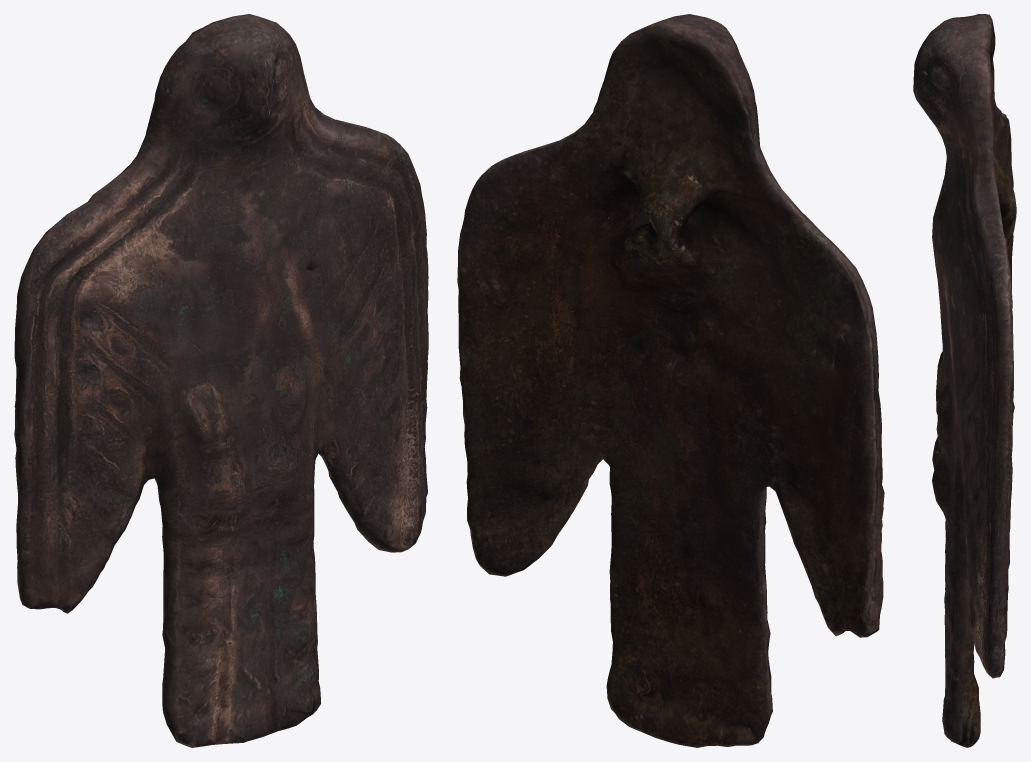
File: bird1_low_re.glb
The picture shows the model from 3 angles, left to right: view 1: azimuth 30°, elevation 25°; view 2: azimuth 150°, elevation 25°; view 3: azimuth 270°, elevation 25°; orthographic projection. The views are drawn at different scales.
Parts seen in each view (by area): view 1: Model; view 2: Model; view 3: Model.
Boxes of the visible parts, x1,y1,x2,y2 form: Model: [14, 14, 428, 747]; Model: [457, 14, 884, 747]; Model: [913, 14, 1016, 747].
Bounding box in the file's own units: 5.46 × 9.04 × 1.21.
1 material, 1 textured.
